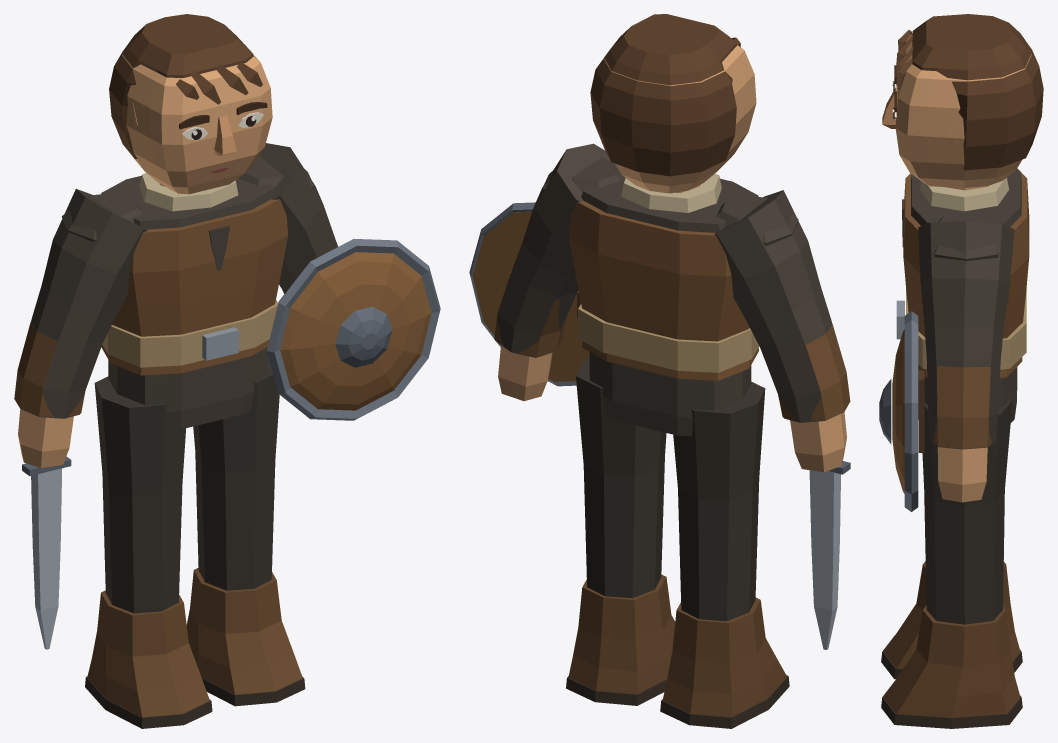
Rendered from warrior-common.obj.
3 renders of one model, left to right at view 1: azimuth 30°, elevation 25°; view 2: azimuth 150°, elevation 25°; view 3: azimuth 270°, elevation 25°, orthographic.
Visible parts, largest first — view 1: bacaklar, kollar, cizmeler, yelek, kalkan, kafa, govde, sac, kalkan-cercedeyi, kilic, kemer, cizme-tabani (+5 smaller); view 2: bacaklar, kollar, sac, cizmeler, yelek, govde, kemer, kalkan, eller, kilic, bileklikler, kafa (+3 smaller); view 3: kollar, sac, cizmeler, bacaklar, kafa, yelek, bileklikler, govde, kalkan-cercedeyi, eller, cizme-tabani, yaka (+6 smaller).
Part boxes in pixels (bbox=[...]): bacaklar: bbox=[94, 355, 279, 613]; kollar: bbox=[20, 143, 338, 418]; cizmeler: bbox=[87, 567, 302, 717]; yelek: bbox=[101, 199, 287, 375]; kalkan: bbox=[280, 252, 431, 410]; kafa: bbox=[122, 43, 272, 194]; govde: bbox=[101, 175, 275, 429]; sac: bbox=[109, 14, 262, 158]; kalkan-cercedeyi: bbox=[267, 239, 440, 420]; kilic: bbox=[31, 468, 62, 649]; kemer: bbox=[102, 300, 278, 367]; cizme-tabani: bbox=[85, 676, 305, 728]; bacaklar: bbox=[576, 358, 765, 621]; kollar: bbox=[495, 143, 844, 422]; sac: bbox=[590, 14, 740, 176]; cizmeler: bbox=[568, 574, 786, 717]; yelek: bbox=[569, 200, 758, 380]; govde: bbox=[581, 175, 758, 436]; kemer: bbox=[578, 304, 759, 372]; kalkan: bbox=[472, 211, 589, 381]; eller: bbox=[498, 345, 846, 472]; kilic: bbox=[809, 470, 840, 649]; bileklikler: bbox=[494, 271, 850, 421]; kafa: bbox=[603, 44, 756, 193]; kollar: bbox=[918, 211, 1014, 449]; sac: bbox=[895, 14, 1043, 170]; cizmeler: bbox=[883, 561, 1020, 717]; bacaklar: bbox=[922, 398, 1012, 624]; kafa: bbox=[895, 34, 1031, 187]; yelek: bbox=[903, 168, 1029, 377]; bileklikler: bbox=[933, 366, 991, 448]; govde: bbox=[911, 169, 1021, 422]; kalkan-cercedeyi: bbox=[904, 311, 918, 511]; eller: bbox=[937, 447, 987, 502]; cizme-tabani: bbox=[881, 635, 1022, 728]; yaka: bbox=[920, 177, 1009, 211].
Bounding box in the file's own units: 25.55 × 40.05 × 9.14.
